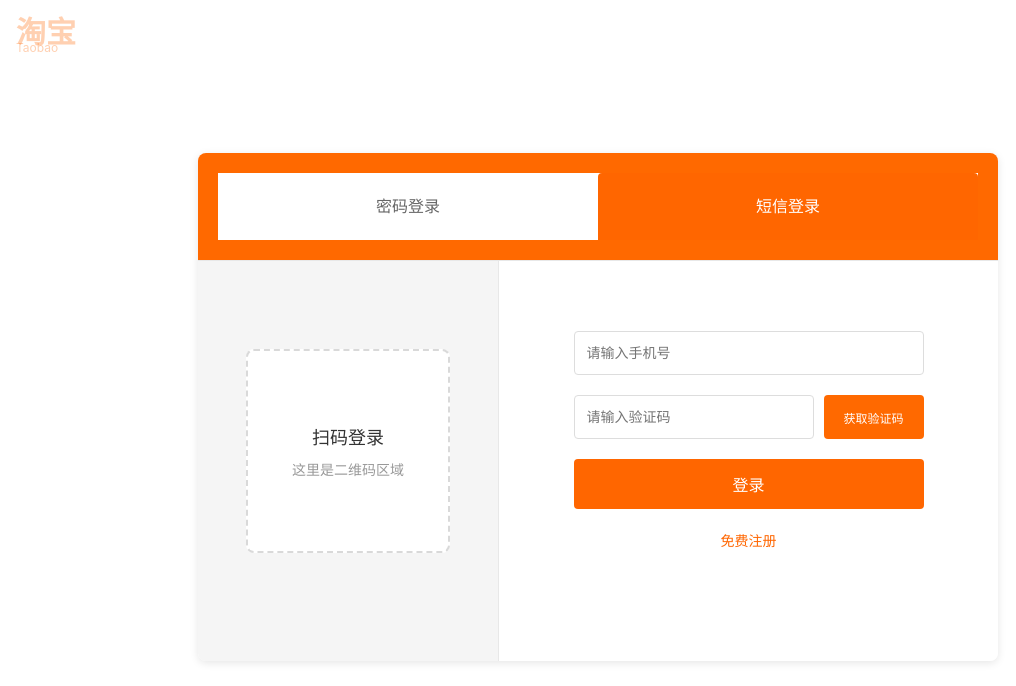
LoginForm › 应该根据API响应显示相应的错误或成功消息
Type "13800138000" into the field with placeholder "请输入手机号". click: (748, 353)
box: [574,331,924,375]
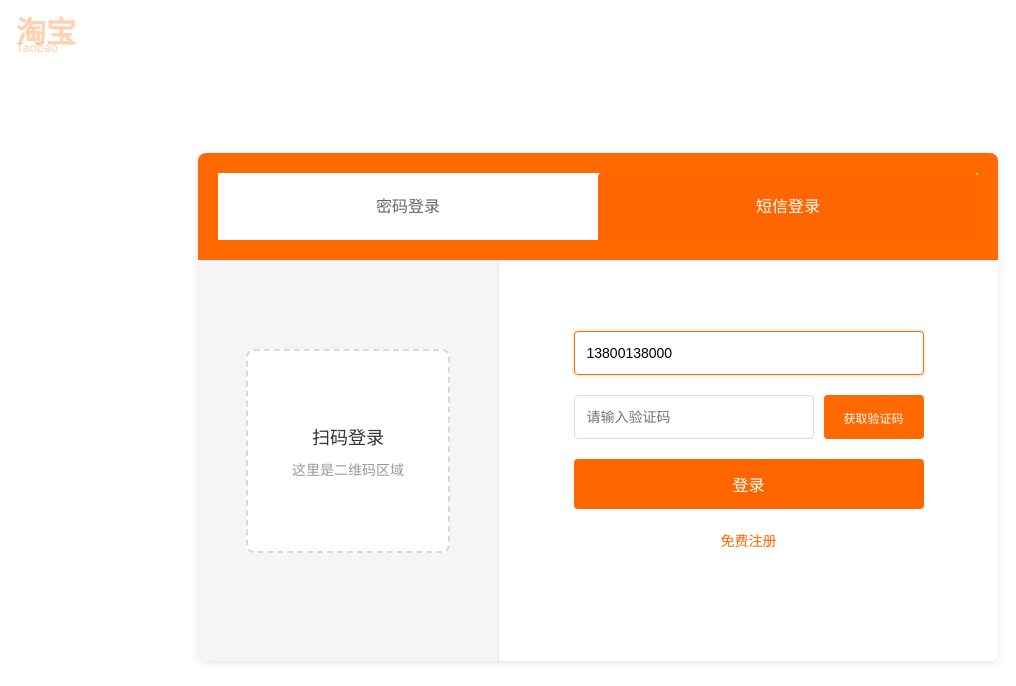
Type "000000" into the field with placeholder "请输入验证码". click: (694, 417)
box: [574,395,814,439]
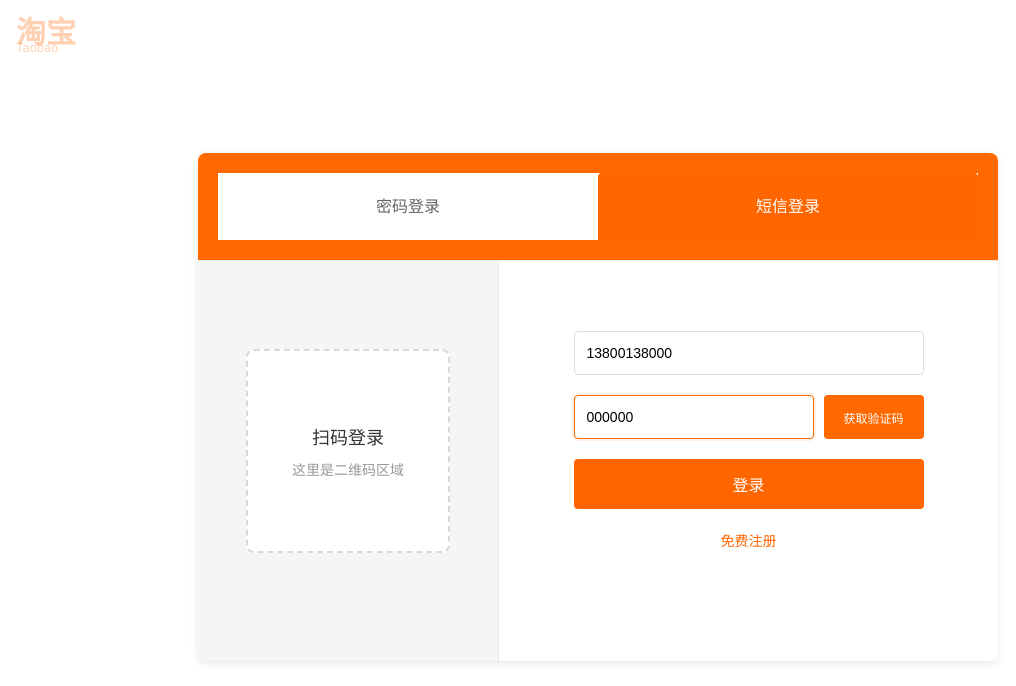
Click the button "登录". click: (748, 484)
box: [574,459,924,509]
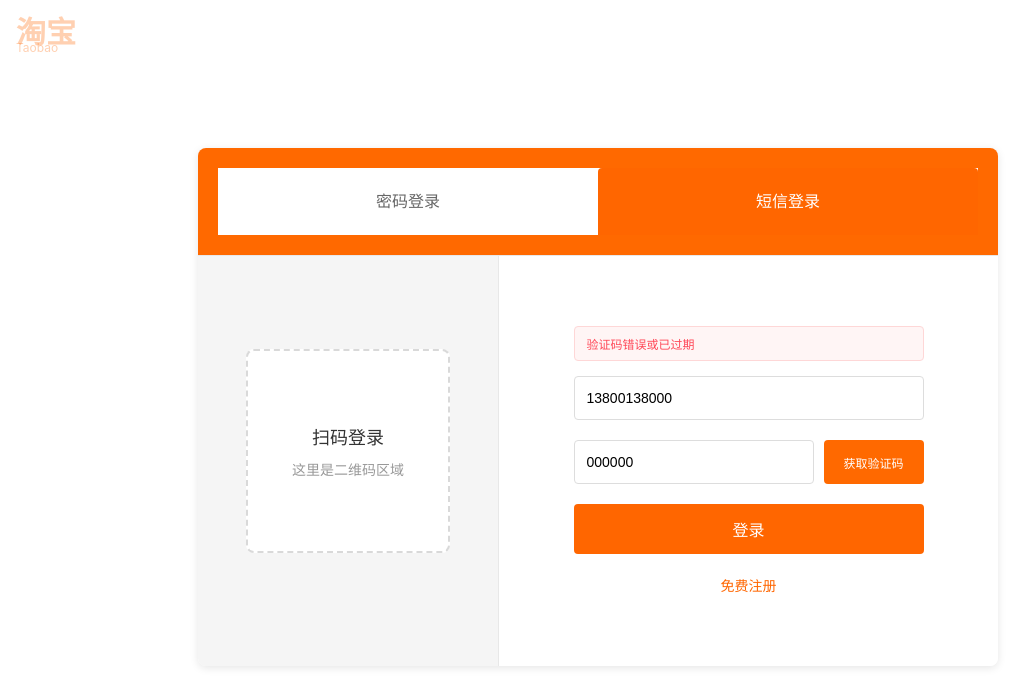
Now the text "验证码错误或已过期" is shown, box [574,326,924,361]
